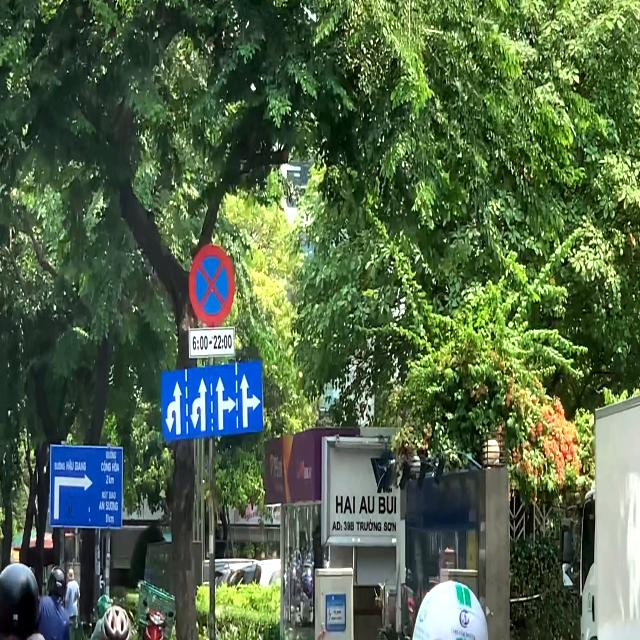P.130: (189, 244, 235, 327)
